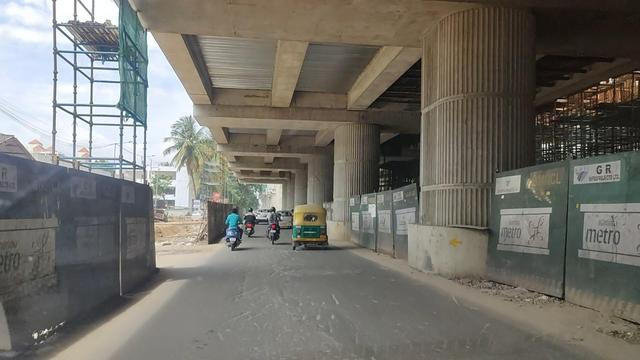LMV: (290, 197, 331, 261), (262, 201, 285, 262), (222, 205, 242, 258)
RoadDamages: (192, 301, 560, 357), (235, 257, 383, 307)
